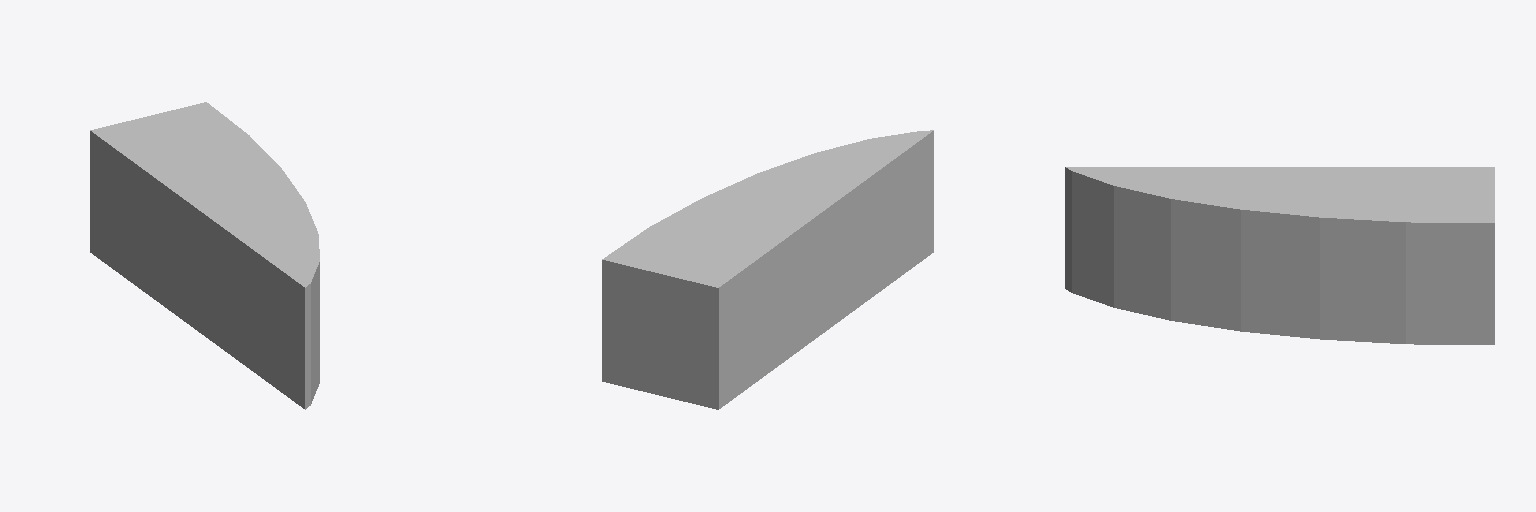
The model's file is sandstone_bridge_front_right_muddy_top.obj.
3 renders of one model, left to right at view 1: azimuth 30°, elevation 25°; view 2: azimuth 150°, elevation 25°; view 3: azimuth 270°, elevation 25°, orthographic.
Parts seen in each view (by area): view 1: side_front_right; view 2: side_front_right; view 3: side_front_right.
Part boxes in pixels (x1,y1,x2,y2): side_front_right: (90, 102, 319, 409); side_front_right: (602, 130, 933, 409); side_front_right: (1065, 167, 1494, 344).
Bounding box in the file's own units: 1 × 1 × 3.2.